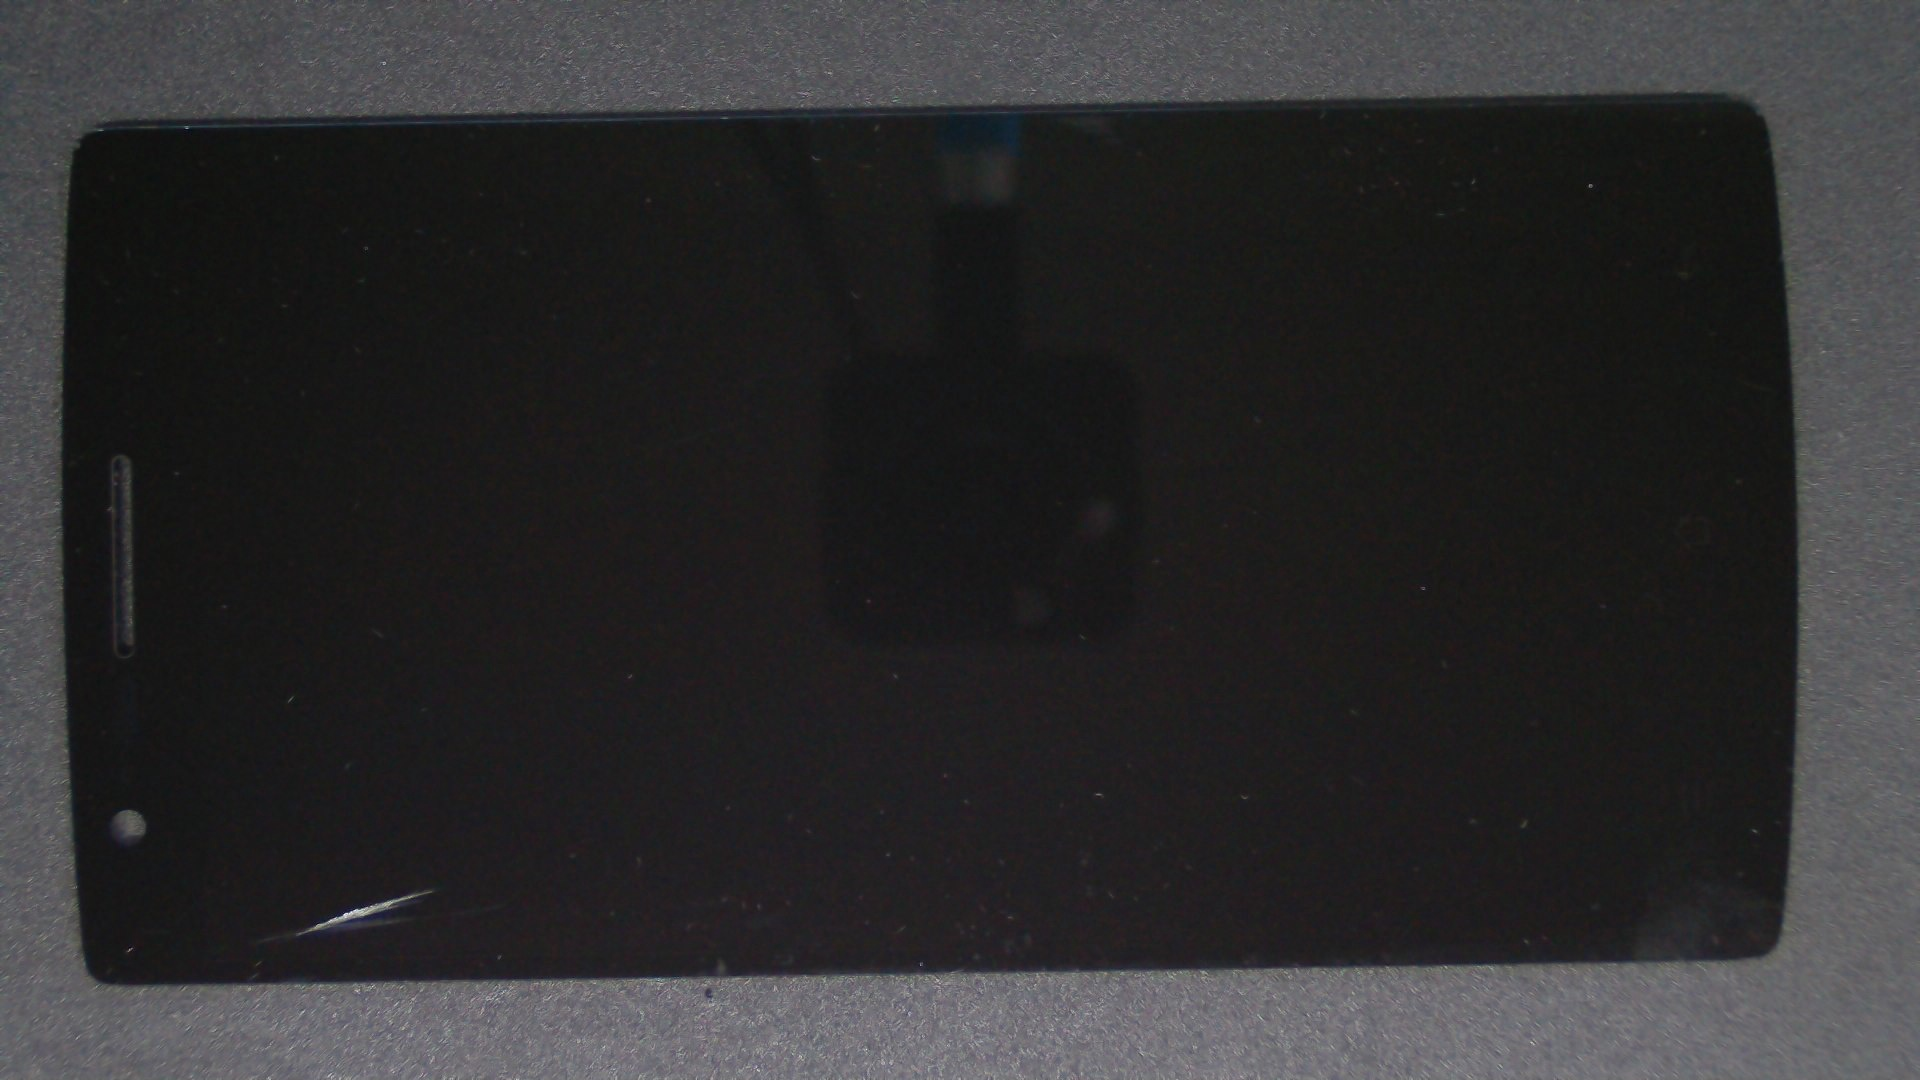oil: (218, 443, 649, 1080)
